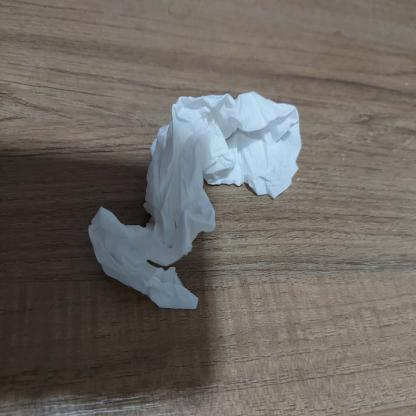paper: (84, 83, 306, 313)
